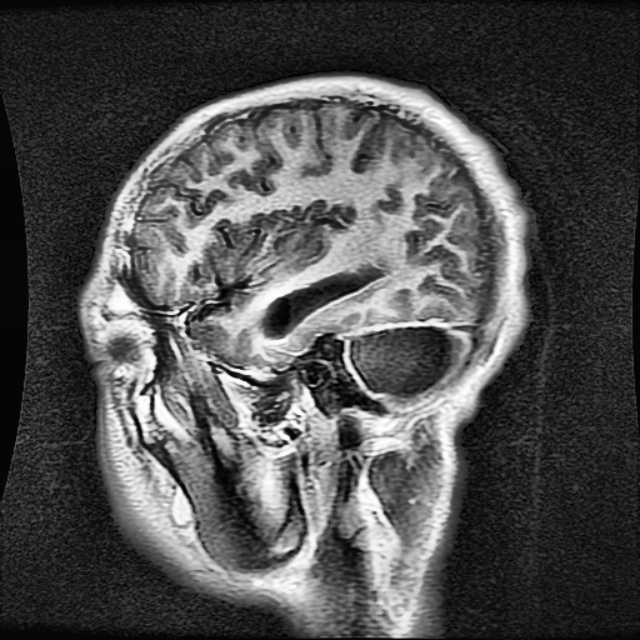Meningioma: (347, 323, 457, 398)
